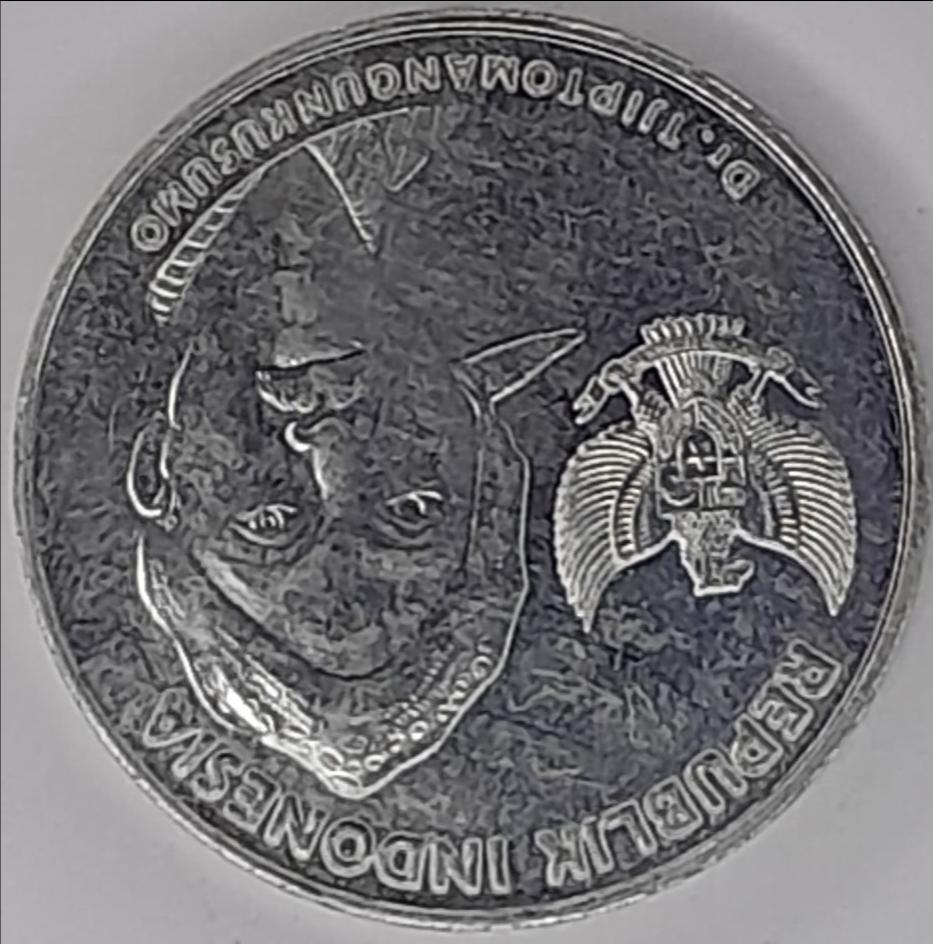coin_200_e2016: (0, 16, 933, 944)
